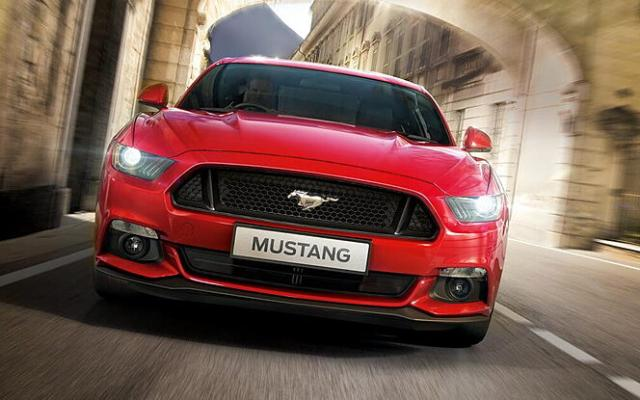ford-mustang: (92, 56, 510, 346)
